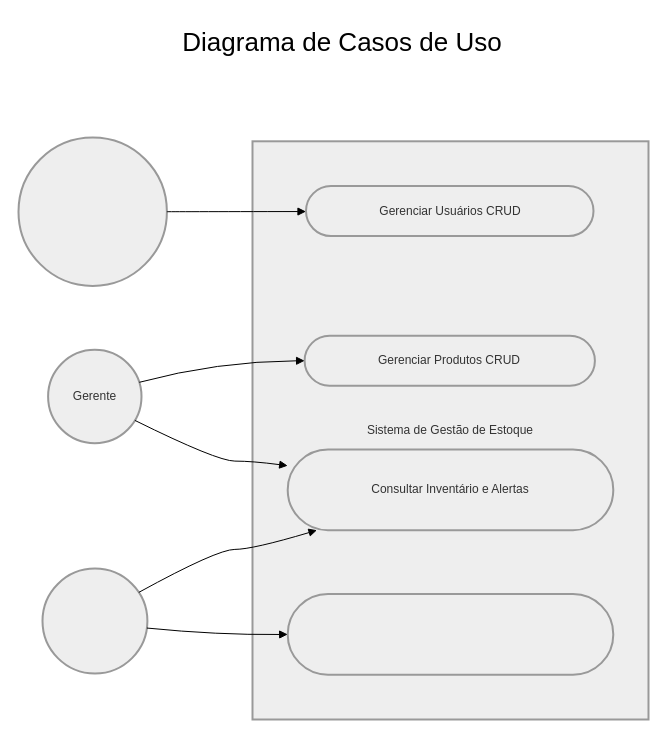
Image size: 666x737. Some labels were removed from this diagram. Here are the shapes that lost their labels. From the top down, the centre of each, then its label:
At point 92,211: "Administrador".
At point 94,620: "Vendedor".
At point 450,634: "Registrar Venda com Baixa de Estoque".
